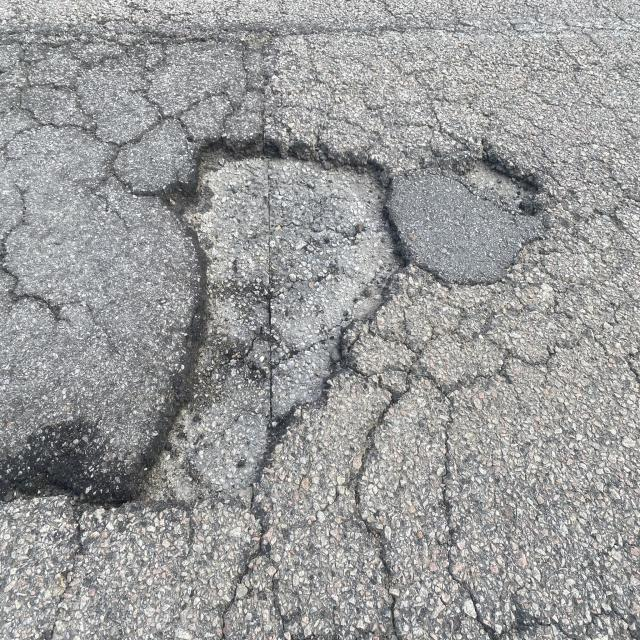Pothole: (111, 103, 428, 536), (345, 54, 547, 338)
